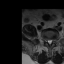CCS_normal: (49, 38, 50, 47)
LFS_normal: (52, 38, 53, 42)
LLS_stenosis: (50, 39, 52, 44)
RFS_normal: (45, 38, 48, 43)
RLS_stenosis: (47, 39, 49, 44)
